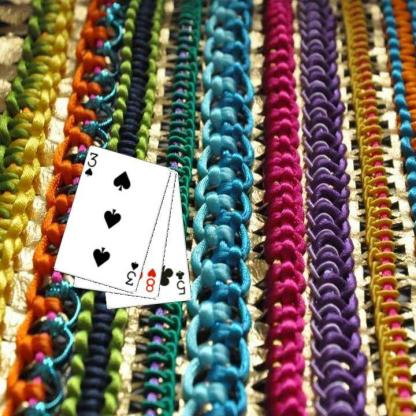3S: (122, 260, 140, 287), (82, 150, 99, 178)
5C: (173, 268, 187, 296)
8H: (143, 266, 158, 293)
